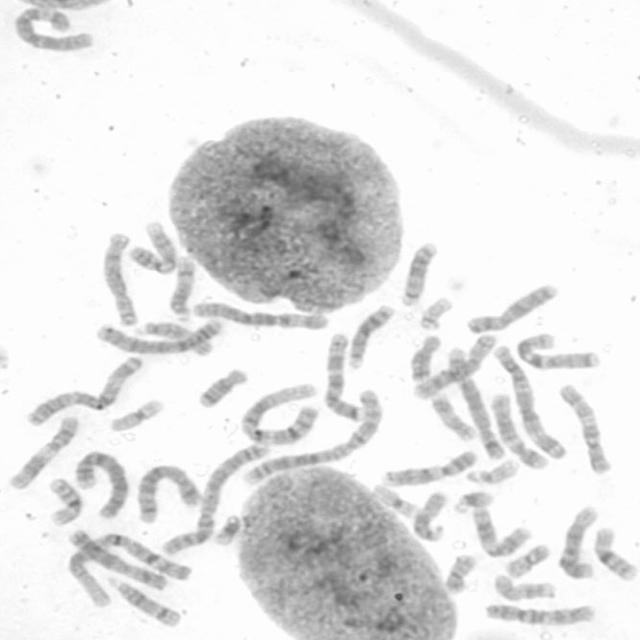A1: (64, 526, 192, 609), (236, 380, 320, 447)
A2: (239, 386, 384, 487), (159, 438, 271, 558)
A3: (21, 352, 146, 427), (490, 341, 568, 460)
B4: (89, 317, 228, 353), (71, 448, 129, 520)
B5: (443, 342, 507, 462), (134, 462, 204, 524)
C10: (555, 380, 613, 475), (482, 600, 598, 626)
C11: (4, 411, 81, 491), (468, 502, 533, 558)
C12: (487, 390, 549, 471), (554, 502, 600, 580)
C6: (190, 299, 330, 331), (10, 4, 96, 53)
C7: (321, 330, 366, 422), (512, 330, 601, 371)
C8: (410, 331, 499, 401), (102, 228, 138, 328)
C9: (378, 448, 480, 488), (125, 217, 180, 276)
D13: (344, 302, 396, 370), (398, 240, 441, 308)
D14: (104, 573, 184, 629), (164, 253, 197, 324)
D15: (127, 310, 217, 358), (409, 489, 449, 542)
E16: (589, 523, 639, 582), (44, 474, 86, 527)
E17: (426, 391, 476, 443), (489, 571, 559, 602)
E18: (192, 364, 250, 410), (407, 333, 442, 383)
F19: (106, 397, 164, 433), (368, 480, 420, 520)
F20: (502, 541, 552, 579), (441, 551, 477, 595)
G21: (210, 511, 243, 548), (450, 488, 494, 515)
G22: (462, 456, 520, 485), (415, 293, 454, 331)
X: (64, 526, 170, 593), (462, 281, 561, 335)
